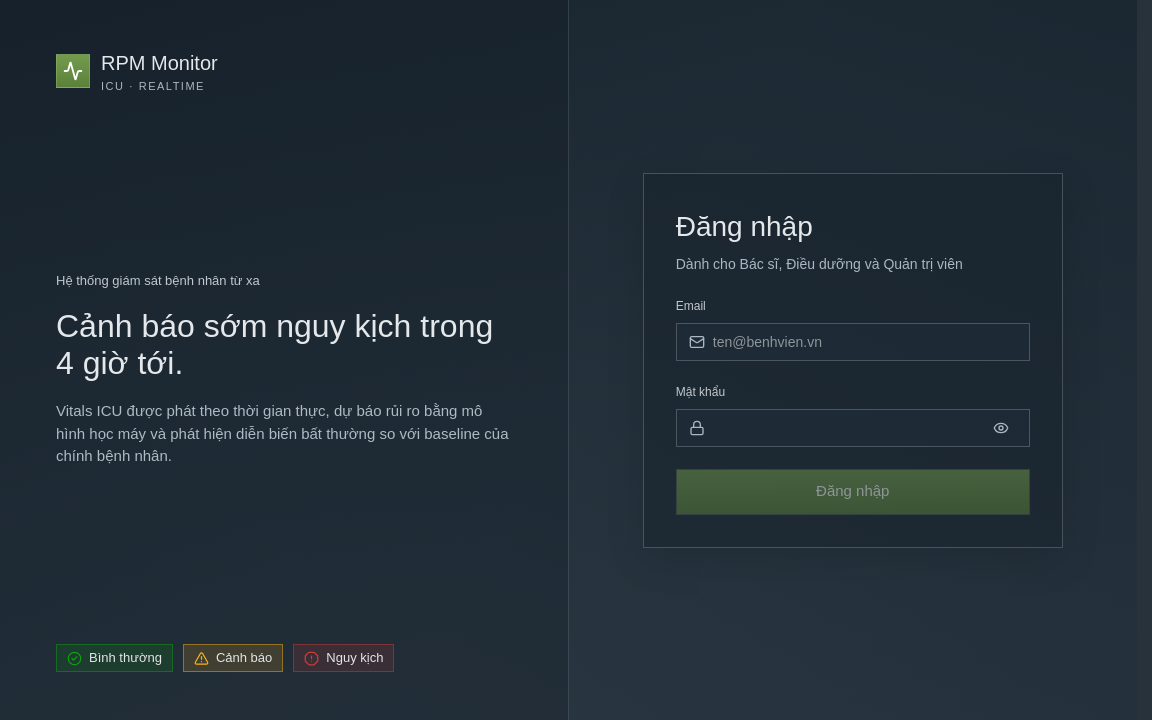
it: đăng nhập (UC01) › sai thông tin: hiển thị lỗi ngay dưới nút
The image size is (1152, 720).
Type "x@rpm.local" into the field with placeholder "ten@benhvien.vn". click: (865,342)
box: [713, 324, 1017, 360]
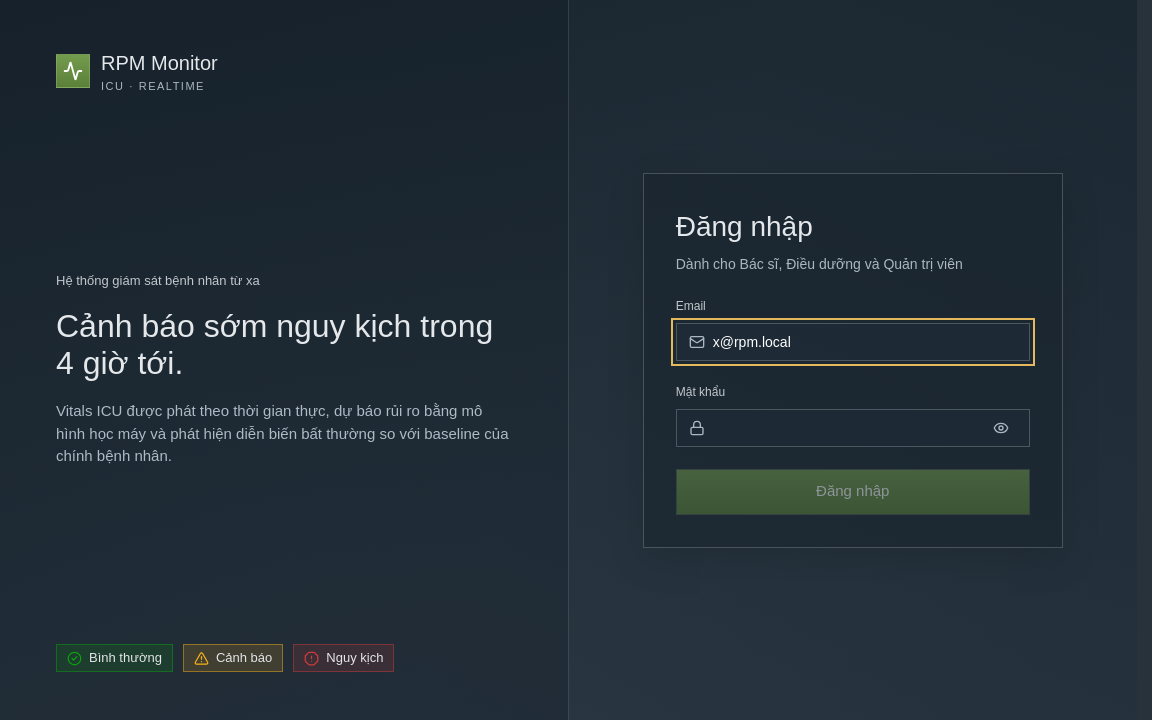
Type "sai-mat-khau" into the password field labelled "Mật khẩu". click: (845,428)
box: [713, 410, 977, 446]
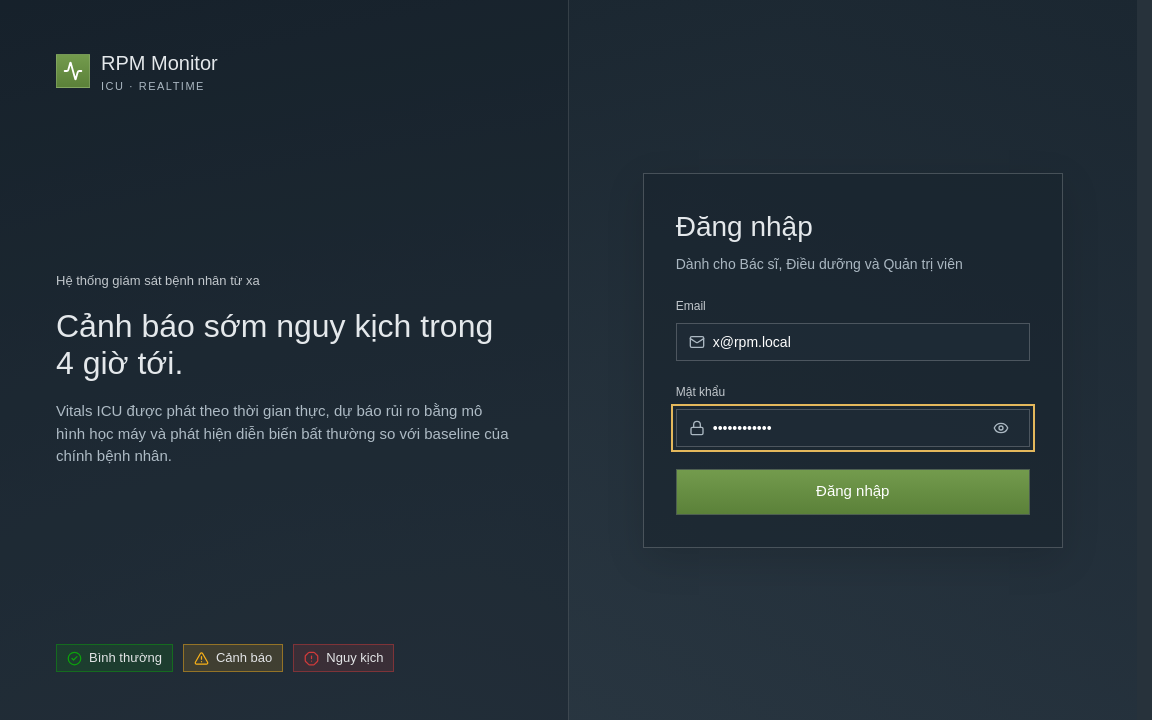
Click the button "Đăng nhập". click: (853,492)
box: [676, 468, 1030, 514]
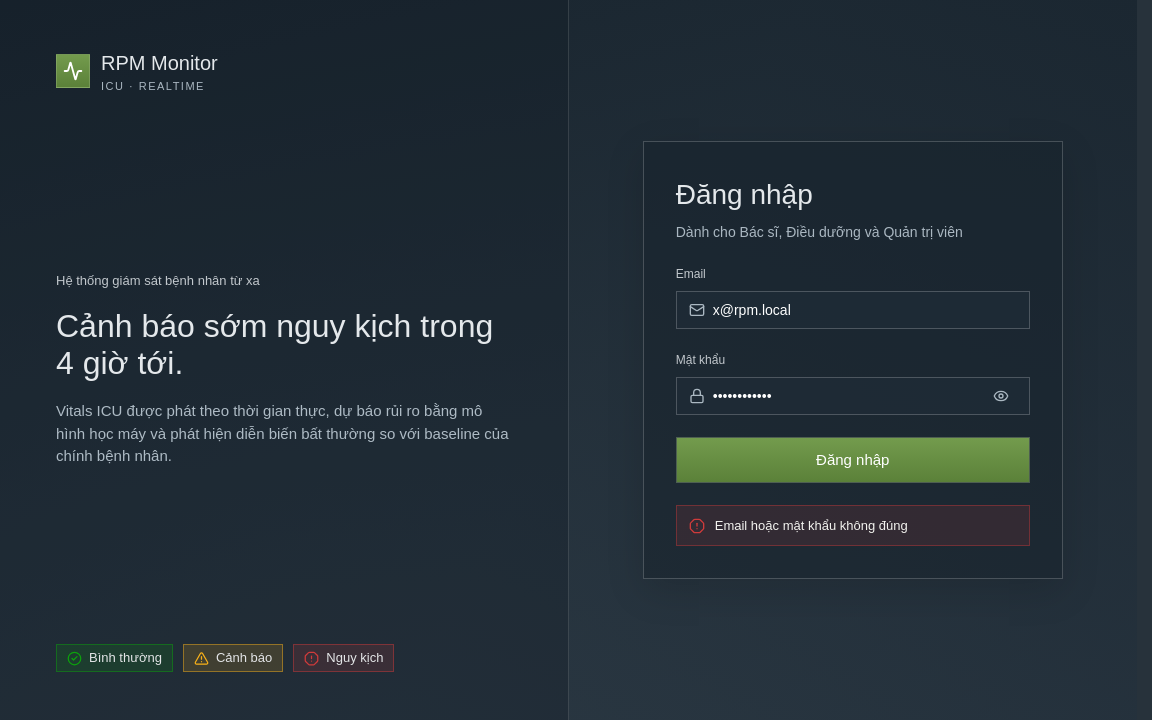
expect the message reads "Email hoặc mật khẩu không đúng": met, box [715, 518, 908, 533]
